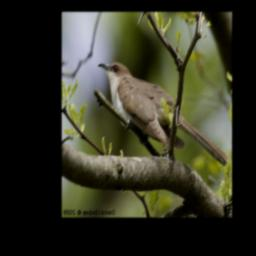Cuckoo: (99, 60, 230, 166)
